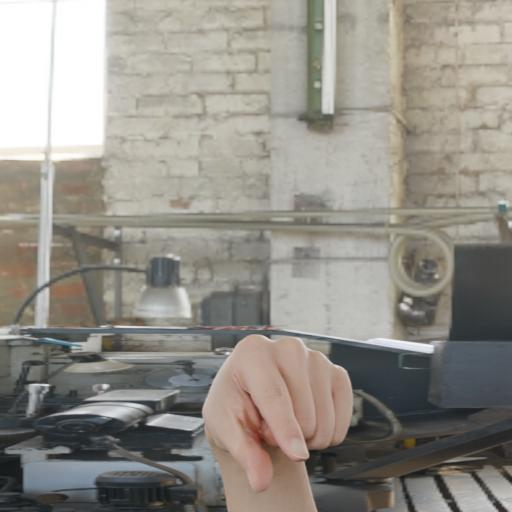Q: (197, 327, 362, 496)
